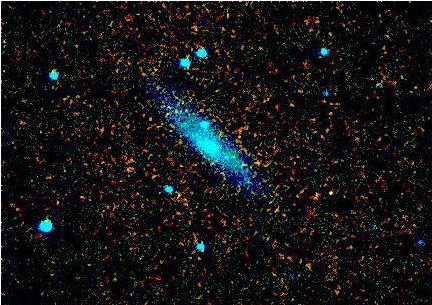star: (315, 179, 345, 209)
